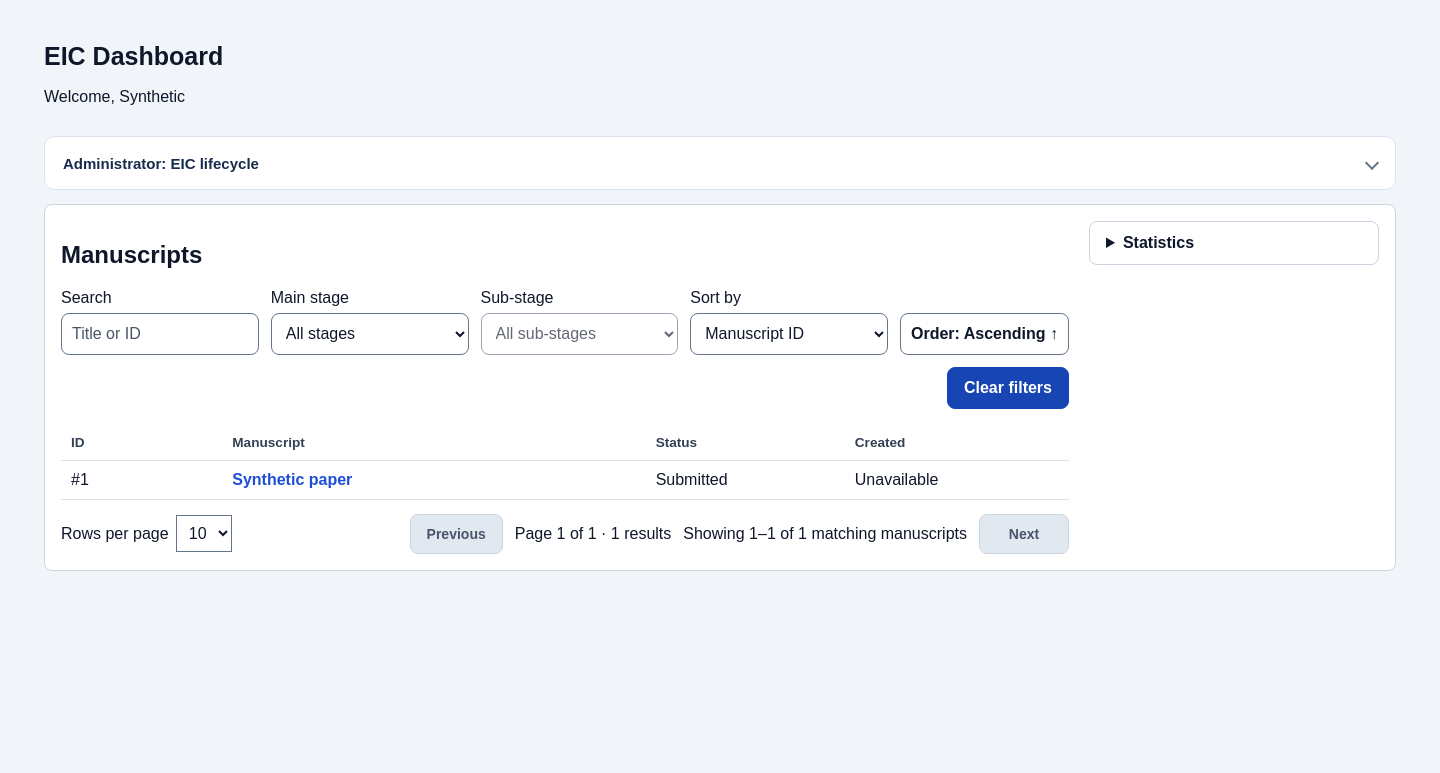
displays a current-stage projected task without adding a second prompt
Click the button with aria-label "#1 Synthetic paper".
click(292, 480)  # box [232,471,352,489]
(page scrolled)
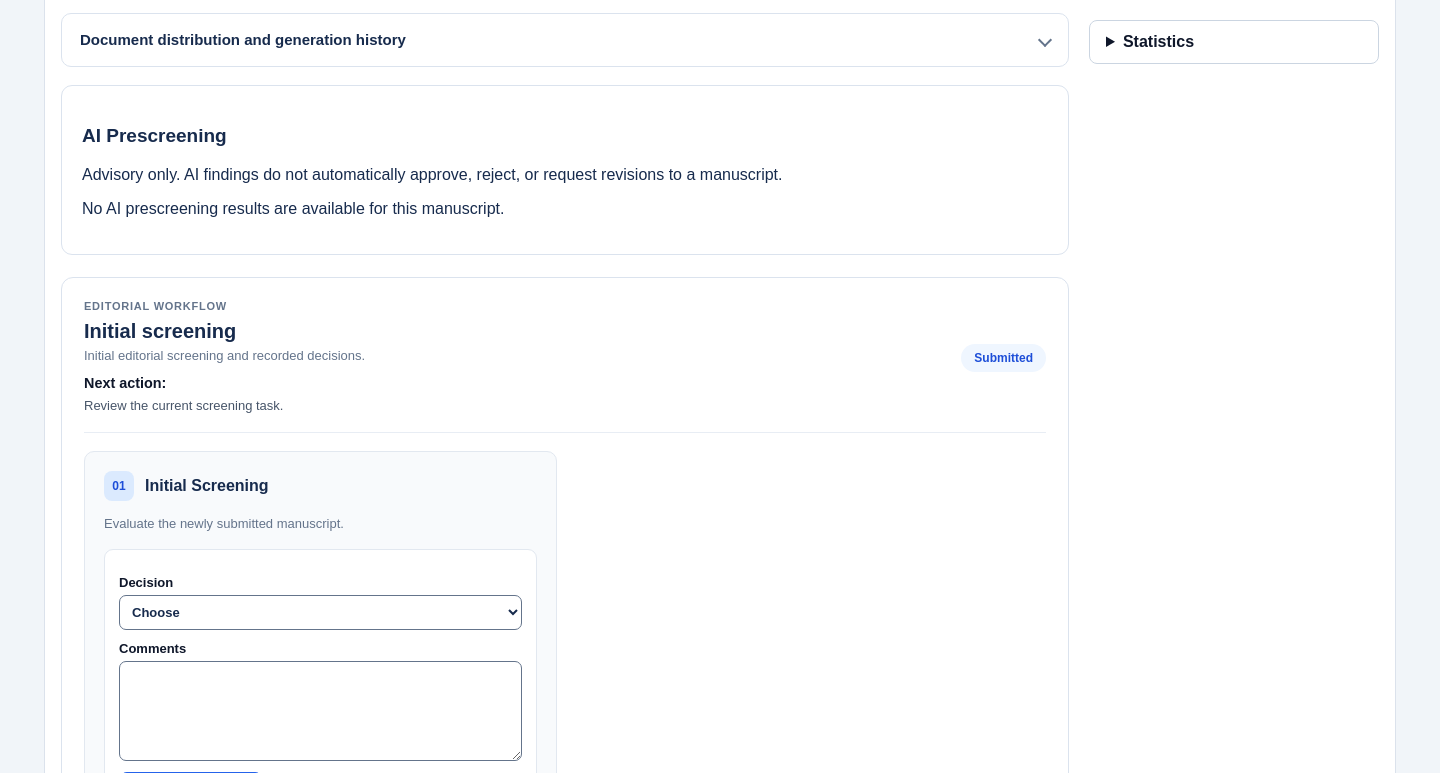
Result: the text "Review the current screening task." is shown at [84,398,283,413]
Result: the number of headings "Next action:" is 1 at [84,375,166,391]
